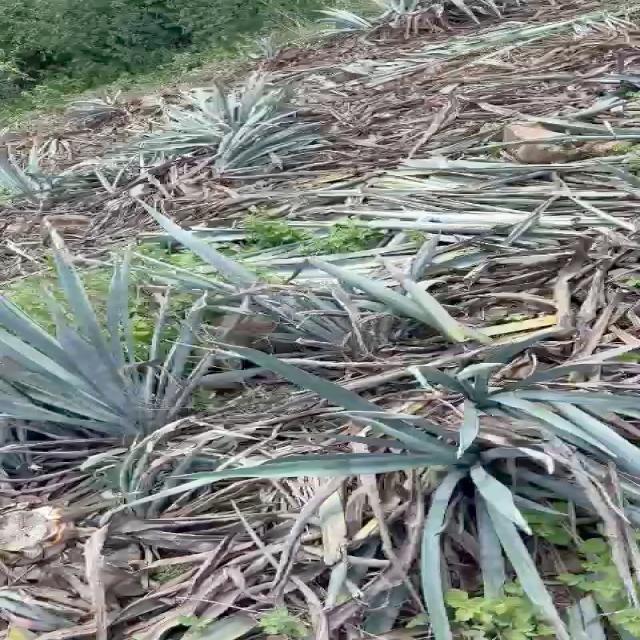agave: (218, 356, 560, 586), (0, 253, 231, 469), (411, 337, 620, 458)
